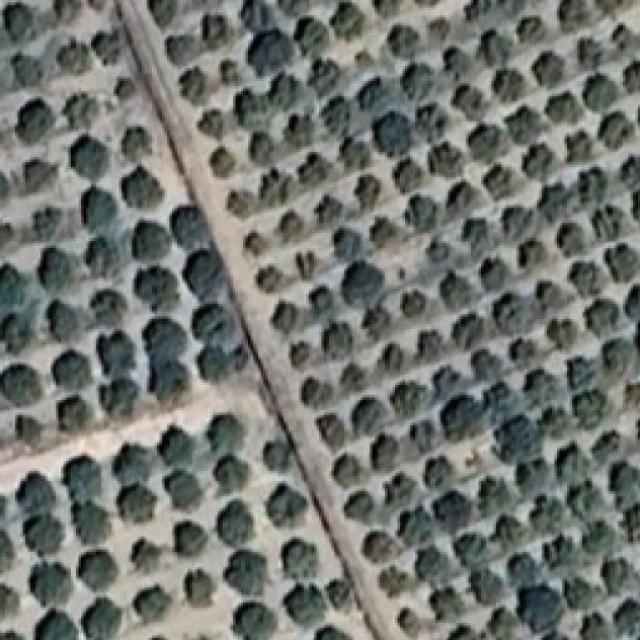Tree: (494, 414, 541, 463), (516, 584, 562, 633), (134, 268, 181, 315), (182, 250, 224, 302), (247, 29, 293, 76), (142, 319, 188, 364), (442, 395, 487, 440), (112, 444, 159, 487), (29, 562, 73, 607), (342, 261, 384, 308), (122, 165, 165, 210), (96, 330, 136, 378), (283, 583, 327, 626), (144, 364, 193, 402), (0, 364, 44, 406), (22, 514, 64, 558), (266, 484, 308, 528), (191, 303, 233, 347), (170, 205, 211, 250), (493, 294, 539, 334), (62, 455, 101, 502), (223, 551, 263, 596), (81, 183, 116, 234), (46, 299, 87, 342), (51, 348, 92, 391), (81, 597, 122, 640), (15, 471, 56, 514), (71, 500, 111, 544), (15, 99, 55, 143), (433, 490, 473, 534), (374, 111, 412, 157), (438, 270, 479, 312), (233, 601, 277, 640), (70, 135, 108, 180), (217, 500, 253, 547), (208, 413, 246, 457), (349, 395, 389, 436), (77, 550, 117, 591), (38, 247, 73, 293), (163, 470, 203, 510), (157, 425, 195, 467), (567, 479, 604, 522), (114, 487, 158, 523), (608, 460, 640, 509), (132, 220, 171, 260), (96, 381, 140, 416), (281, 538, 318, 579), (484, 381, 520, 423), (555, 442, 590, 485), (390, 381, 430, 418), (414, 546, 451, 586), (133, 585, 171, 623), (572, 389, 608, 429), (530, 493, 565, 534), (398, 505, 433, 546), (85, 236, 120, 277), (597, 111, 634, 149), (505, 105, 541, 144), (604, 243, 640, 282), (90, 291, 129, 327), (330, 1, 365, 41), (294, 16, 328, 57), (415, 102, 449, 143), (35, 608, 78, 640), (582, 73, 618, 111), (468, 123, 503, 162), (490, 513, 525, 552), (215, 455, 250, 494), (0, 313, 34, 353), (446, 180, 480, 220), (479, 476, 513, 516), (538, 182, 571, 223), (174, 520, 210, 557), (63, 93, 99, 130), (569, 261, 606, 297), (259, 168, 294, 206), (515, 459, 550, 497), (234, 89, 267, 129), (0, 263, 29, 308), (451, 312, 486, 349), (585, 299, 620, 336), (524, 369, 559, 406), (268, 72, 302, 110), (308, 59, 341, 98), (363, 531, 403, 563), (321, 95, 352, 136), (577, 166, 608, 207), (58, 39, 93, 75), (428, 141, 463, 177), (429, 586, 465, 621), (477, 29, 511, 66), (470, 569, 504, 606), (3, 3, 33, 44), (404, 195, 438, 231), (400, 62, 433, 99), (544, 91, 582, 123), (317, 412, 348, 451), (298, 152, 332, 187), (544, 535, 579, 569), (582, 520, 617, 554), (532, 51, 565, 87), (239, 0, 275, 33), (185, 568, 215, 607), (591, 206, 625, 240), (196, 348, 231, 381), (23, 159, 58, 192), (454, 534, 487, 569), (523, 143, 555, 179), (379, 566, 415, 598), (453, 84, 484, 121), (601, 557, 631, 595), (384, 472, 417, 506), (508, 554, 540, 589), (393, 157, 424, 193), (479, 257, 510, 293), (283, 114, 314, 150), (353, 174, 383, 211), (178, 66, 207, 104), (423, 241, 449, 283), (371, 432, 399, 471), (12, 54, 44, 88), (501, 206, 533, 240), (493, 69, 525, 103), (565, 577, 599, 609), (332, 454, 364, 488), (322, 322, 353, 357), (165, 35, 200, 66), (602, 338, 633, 373), (91, 29, 121, 65), (482, 164, 512, 200), (463, 218, 489, 259), (470, 351, 503, 383), (339, 137, 371, 170), (538, 407, 571, 439), (59, 396, 90, 430), (415, 329, 446, 363), (388, 25, 419, 59), (488, 606, 519, 640), (423, 456, 454, 490), (431, 365, 461, 400), (362, 306, 392, 341), (256, 264, 292, 293), (201, 14, 230, 50), (33, 207, 63, 241), (556, 222, 585, 257), (567, 355, 596, 390), (558, 0, 590, 31), (343, 490, 374, 522), (121, 126, 151, 159), (357, 77, 387, 110), (591, 430, 621, 463), (15, 415, 44, 449), (613, 598, 640, 634), (517, 238, 548, 269), (314, 195, 344, 227), (540, 283, 570, 315), (277, 209, 306, 242), (379, 342, 407, 376), (564, 130, 592, 164), (302, 377, 333, 407), (339, 362, 368, 394), (370, 217, 400, 247), (400, 289, 430, 319), (547, 319, 577, 349), (132, 540, 161, 571), (443, 47, 470, 80), (263, 439, 290, 472), (227, 189, 257, 218), (580, 611, 610, 640), (272, 301, 298, 334), (250, 132, 276, 165), (326, 580, 352, 613), (210, 146, 236, 178), (147, 0, 177, 27), (516, 17, 546, 44), (197, 109, 224, 138), (577, 39, 603, 69), (411, 424, 435, 454), (398, 608, 422, 638), (622, 502, 640, 542), (619, 154, 640, 188), (295, 251, 318, 281), (0, 583, 19, 618), (612, 24, 635, 52), (52, 0, 81, 22), (463, 0, 493, 21), (308, 289, 333, 314), (0, 530, 14, 573), (428, 16, 452, 41), (289, 340, 310, 368), (313, 625, 352, 640), (624, 285, 640, 320), (332, 230, 355, 254), (594, 0, 633, 14), (512, 344, 536, 366), (0, 219, 14, 256), (277, 0, 309, 16), (624, 61, 640, 92), (373, 0, 402, 17), (245, 232, 266, 255), (221, 60, 240, 85), (497, 0, 528, 15), (447, 624, 476, 640), (114, 79, 136, 100), (354, 49, 375, 70), (232, 344, 248, 371), (624, 381, 640, 407), (0, 169, 10, 203), (541, 629, 570, 640), (632, 186, 640, 222), (0, 630, 24, 640), (634, 319, 640, 355), (88, 0, 109, 10), (0, 494, 7, 520), (414, 0, 443, 6), (635, 417, 640, 443), (149, 635, 170, 640)
